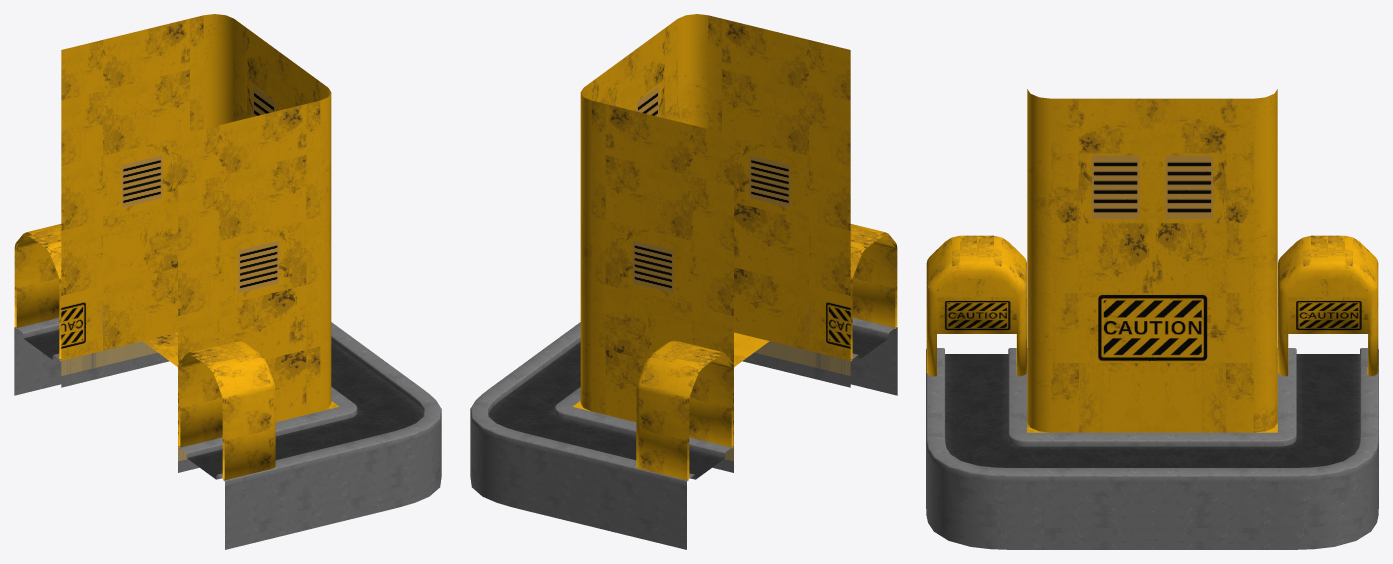
The model's file is Conveyer3.fbx.
3 views of the same model, side by side, from view 1: azimuth 30°, elevation 25°; view 2: azimuth 150°, elevation 25°; view 3: azimuth 270°, elevation 25° (orthographic). The views are drawn at different scales.
Visible parts, largest first — view 1: Variety_low.023, Variety_low.027, Variety_low.026, Plane; view 2: Variety_low.023, Variety_low.027, Variety_low.026, Plane; view 3: Variety_low.023, Variety_low.027, Variety_low.026.
Boxes of the visible parts, x1=… form: Variety_low.023: x1=61, y1=14, x2=331, y2=445; Variety_low.027: x1=14, y1=318, x2=441, y2=549; Variety_low.026: x1=14, y1=224, x2=275, y2=481; Plane: x1=142, y1=332, x2=338, y2=411; Variety_low.023: x1=580, y1=14, x2=850, y2=445; Variety_low.027: x1=470, y1=318, x2=897, y2=549; Variety_low.026: x1=636, y1=224, x2=897, y2=481; Plane: x1=573, y1=332, x2=769, y2=411; Variety_low.023: x1=1027, y1=89, x2=1277, y2=432; Variety_low.027: x1=926, y1=348, x2=1378, y2=549; Variety_low.026: x1=926, y1=235, x2=1378, y2=376.
Bounding box in the file's own units: 602 × 900 × 904.
